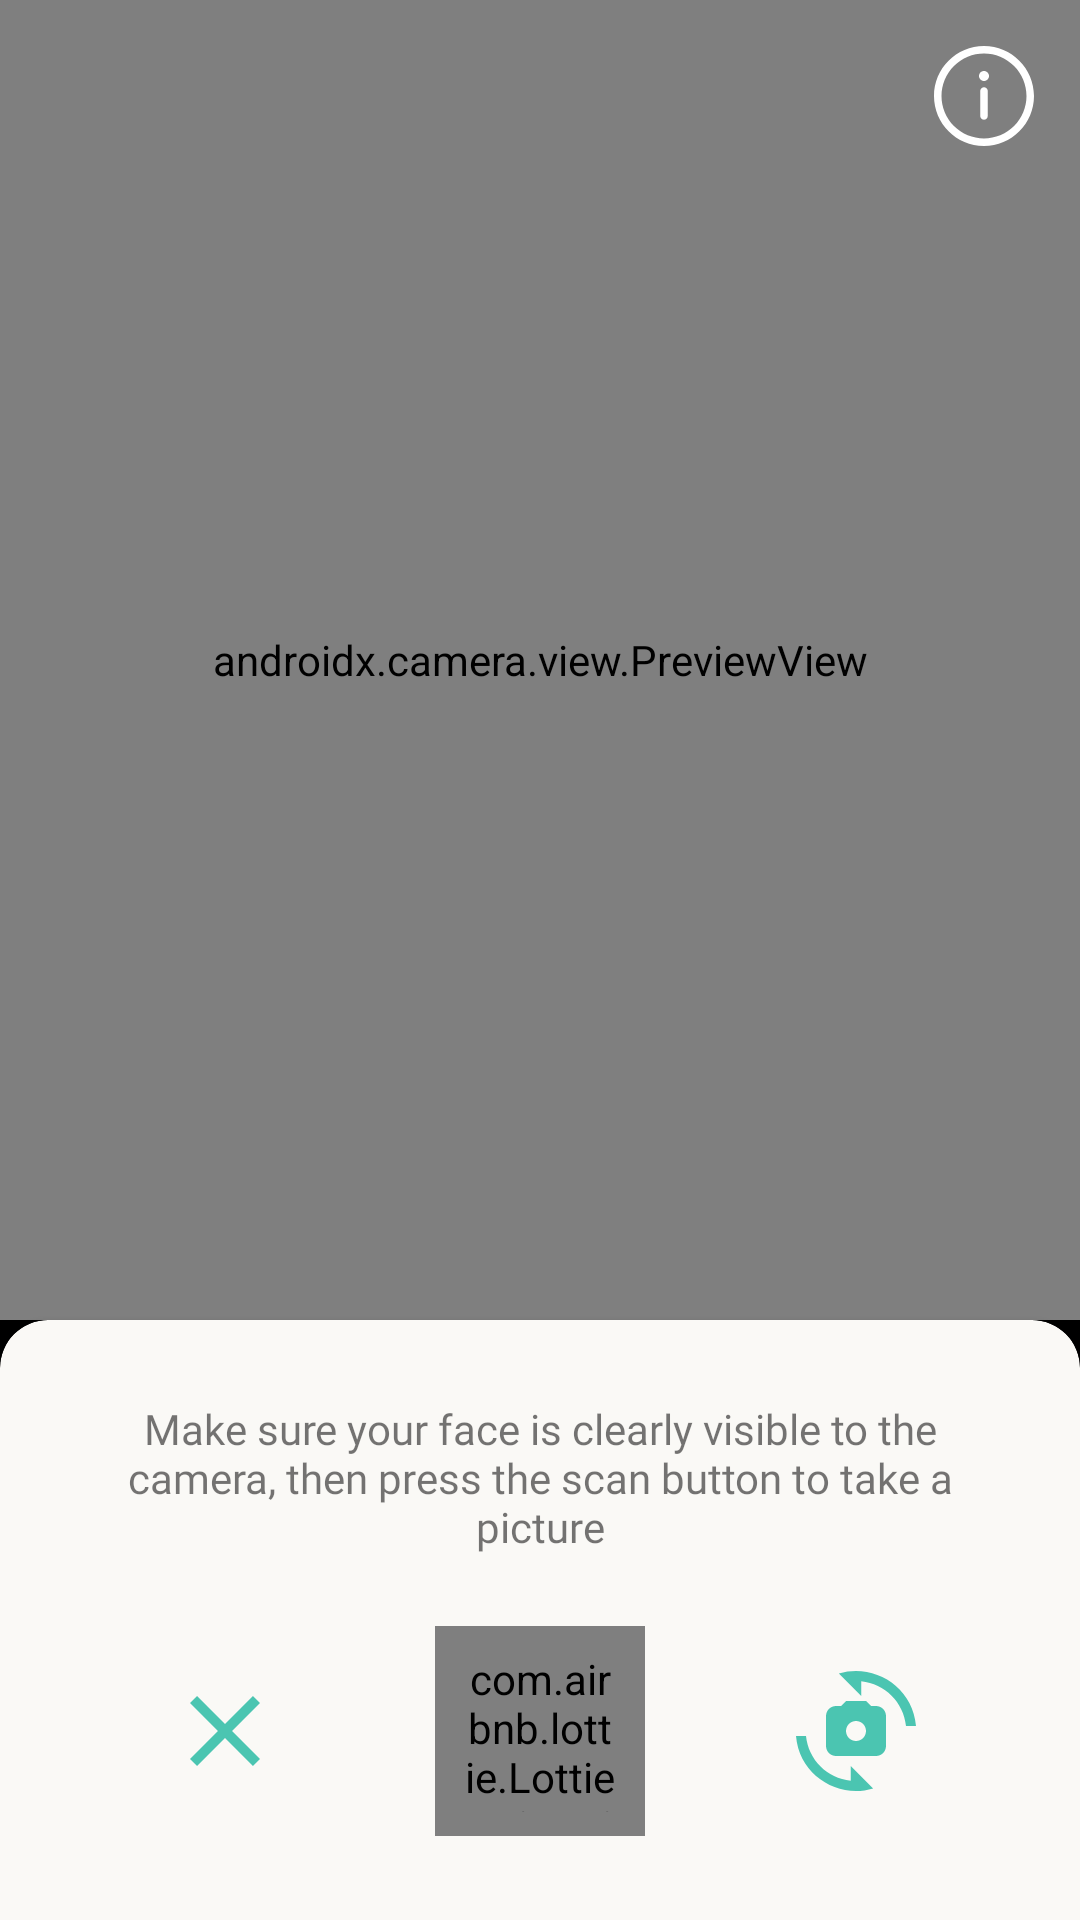

Where icons sit on this 1080 x 1920 app screen, as (x1, y1, x2, y2):
back to homepage: (190, 1696, 260, 1766)
Contains camera usage information: (934, 46, 1034, 146)
Switch Camera: (796, 1671, 916, 1791)
